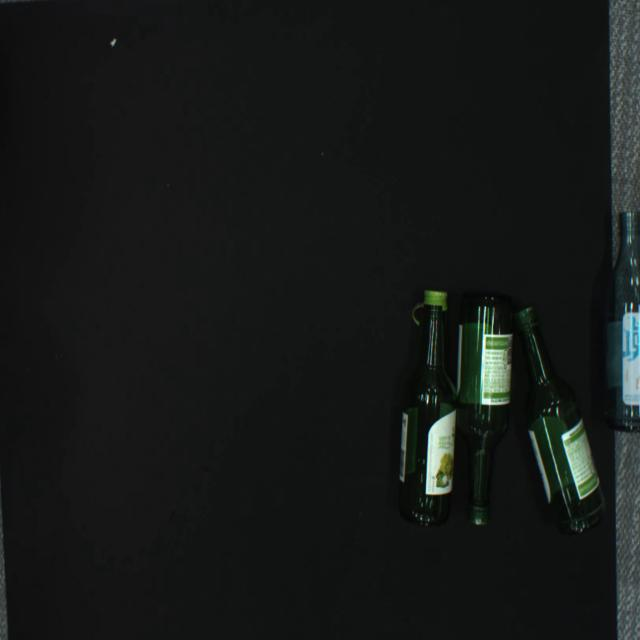soju-bottle: (513, 305, 607, 535), (398, 290, 458, 528), (456, 292, 514, 526), (597, 211, 640, 433)
